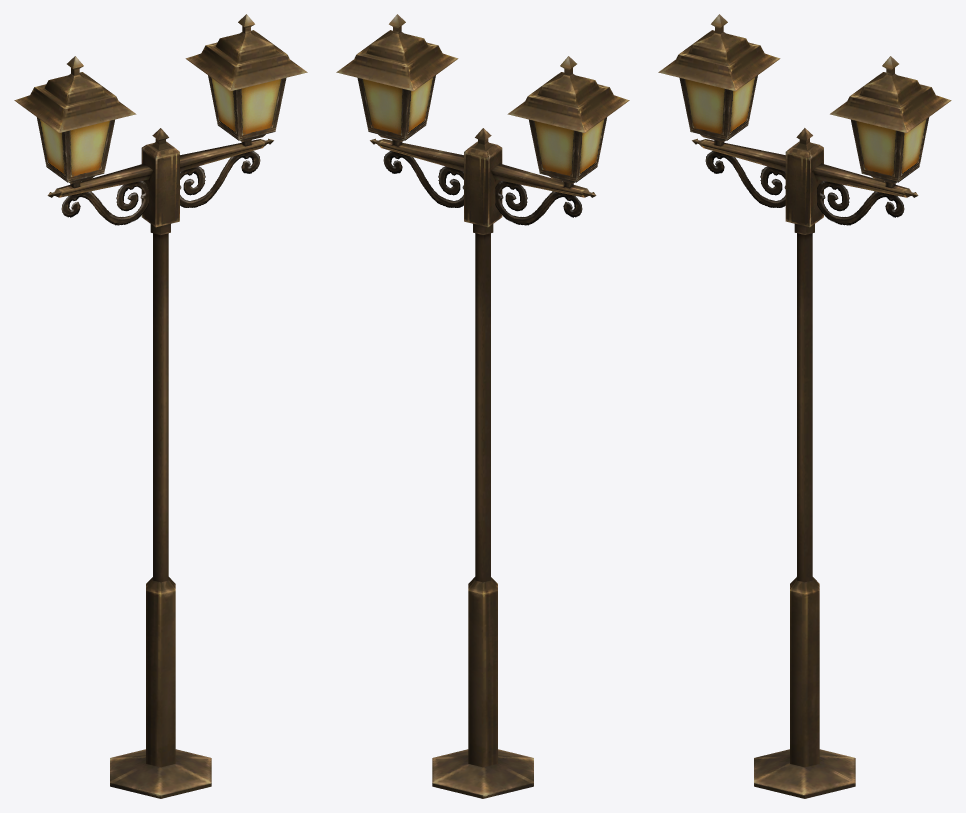
The model's file is furni_0200700.FBX.
3 views of the same model, side by side, from view 1: azimuth 30°, elevation 25°; view 2: azimuth 150°, elevation 25°; view 3: azimuth 330°, elevation 25° (orthographic).
Visible parts, largest first — view 1: furni_0200700; view 2: furni_0200700; view 3: furni_0200700.
Part boxes in pixels (<box>): furni_0200700: <box>14,14,307,798</box>; furni_0200700: <box>336,14,629,798</box>; furni_0200700: <box>658,14,951,798</box>.
Bounding box in the file's own units: 96.71 × 274 × 34.28.
Materials: 1 (1 with a texture image).
